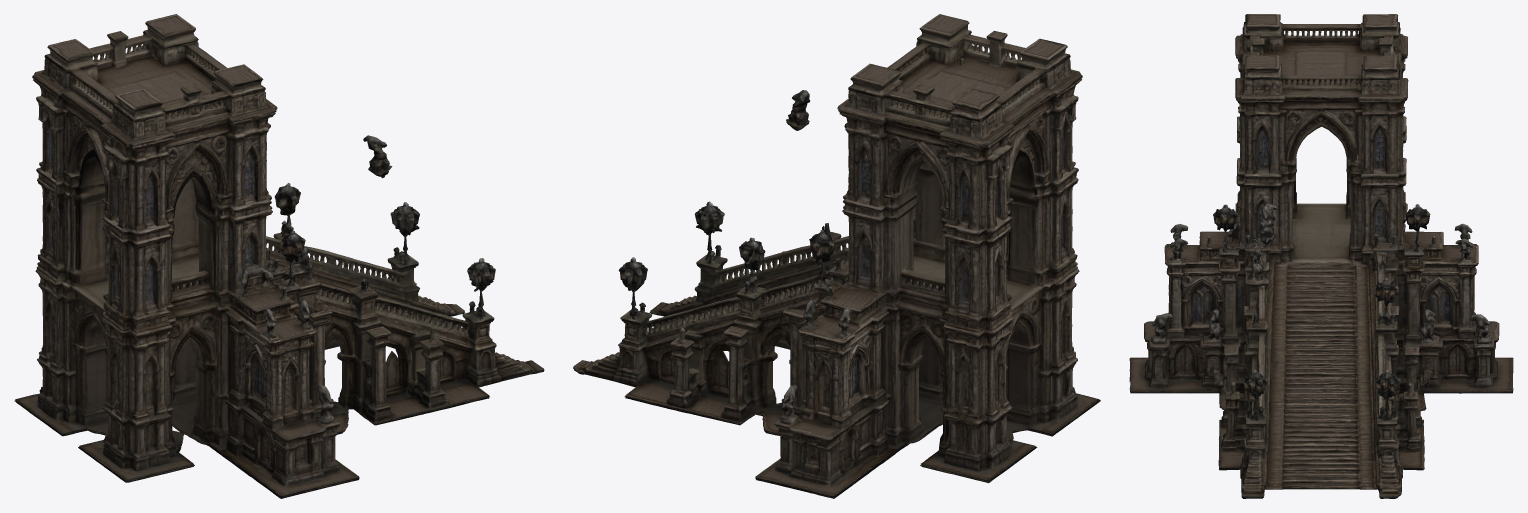
The model's file is gothic_staircase.glb.
The picture shows the model from 3 angles, left to right: view 1: azimuth 30°, elevation 25°; view 2: azimuth 150°, elevation 25°; view 3: azimuth 270°, elevation 25°; orthographic projection. The views are drawn at different scales.
Bounding box in the file's own units: 0.9782 × 0.7857 × 0.8738.
Materials: 1 (1 with a texture image).
